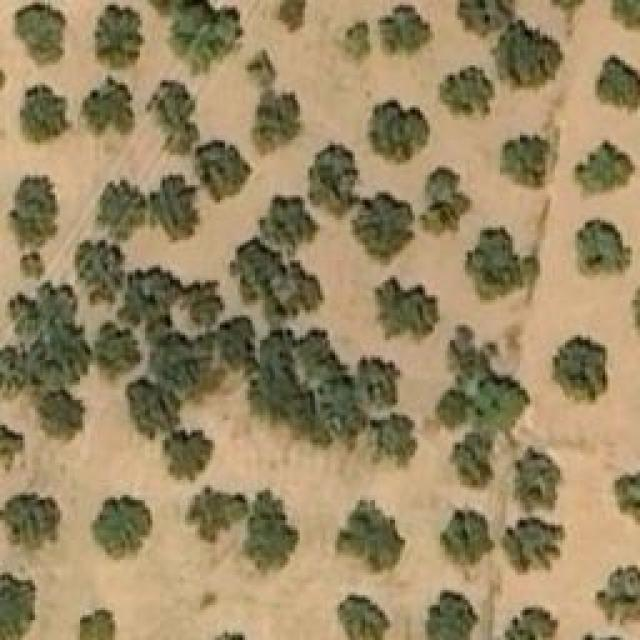Tree: (258, 335, 363, 448), (147, 0, 242, 72), (338, 500, 408, 573), (495, 20, 565, 93), (373, 275, 443, 345), (350, 190, 410, 270), (463, 228, 526, 303), (550, 335, 608, 408), (242, 488, 300, 561), (13, 0, 68, 75), (190, 140, 253, 205), (365, 100, 430, 163), (90, 495, 153, 558), (500, 517, 568, 575), (308, 140, 358, 218), (440, 510, 495, 580), (17, 83, 75, 148), (148, 175, 203, 243), (27, 320, 85, 383), (250, 90, 303, 158), (128, 380, 183, 445), (575, 218, 633, 278), (0, 492, 60, 550), (437, 65, 495, 123), (265, 195, 320, 255), (95, 5, 145, 70), (573, 140, 638, 190), (155, 430, 213, 485), (75, 240, 125, 303), (180, 490, 245, 538), (230, 240, 278, 303), (98, 175, 143, 240), (83, 77, 133, 135), (592, 565, 640, 625), (515, 448, 560, 511), (375, 5, 428, 58), (500, 133, 550, 188), (473, 378, 528, 428), (595, 54, 640, 115), (425, 590, 478, 640), (10, 180, 53, 240), (95, 323, 140, 378), (338, 595, 393, 640), (355, 355, 398, 405), (367, 415, 415, 458), (215, 315, 257, 364), (0, 575, 30, 640), (455, 435, 490, 488), (457, 0, 512, 32), (153, 83, 193, 126), (43, 392, 78, 440), (505, 605, 553, 640), (615, 463, 640, 528), (183, 280, 220, 320), (420, 200, 458, 235), (273, 0, 308, 35), (435, 392, 465, 430), (610, 0, 640, 35), (80, 610, 115, 640), (345, 20, 370, 60), (247, 53, 275, 86), (167, 123, 195, 148), (22, 255, 40, 275)
